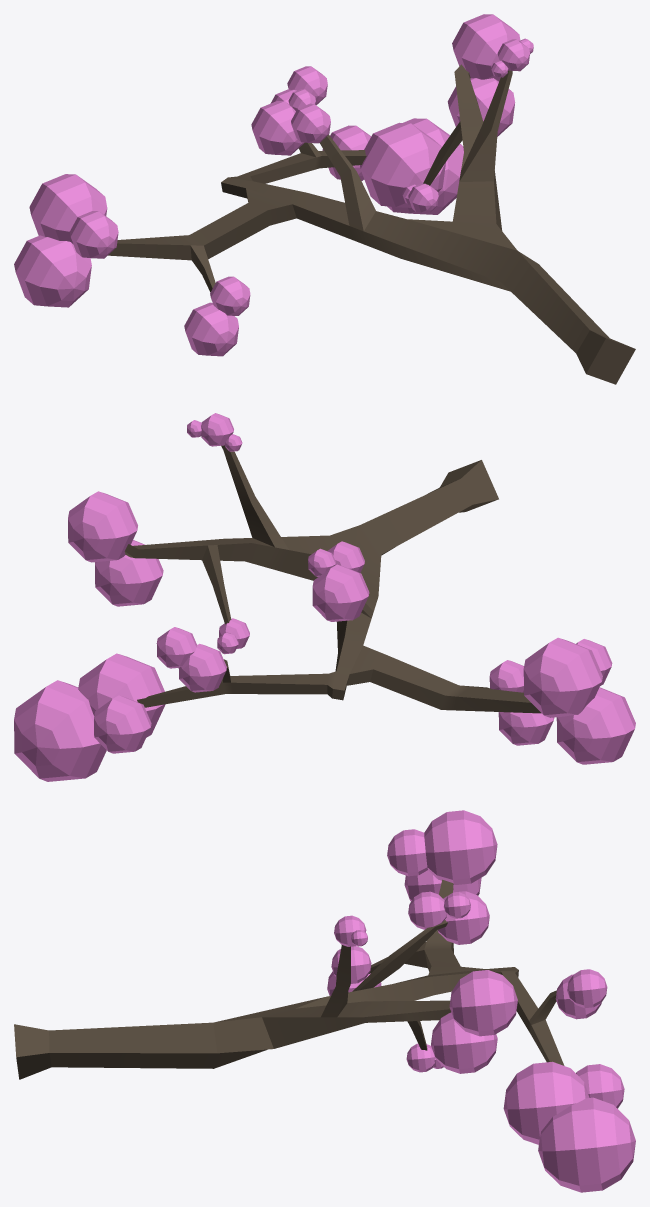
Rendered from BerriesPowerUp_FBX.fbx.
The picture shows the model from 3 angles, top to bottom: view 1: azimuth 30°, elevation 25°; view 2: azimuth 150°, elevation 25°; view 3: azimuth 270°, elevation 25°; orthographic projection. The views are drawn at different scales.
Visible parts, largest first — view 1: Berries_Powerup; view 2: Berries_Powerup; view 3: Berries_Powerup.
Boxes of the visible parts, x1,y1,x2,y2 form: Berries_Powerup: (14, 14, 635, 384); Berries_Powerup: (14, 413, 635, 781); Berries_Powerup: (14, 810, 635, 1192).
Bounding box in the file's own units: 40.32 × 19.99 × 43.44.
